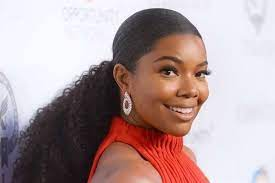person: (110, 8, 212, 137)
